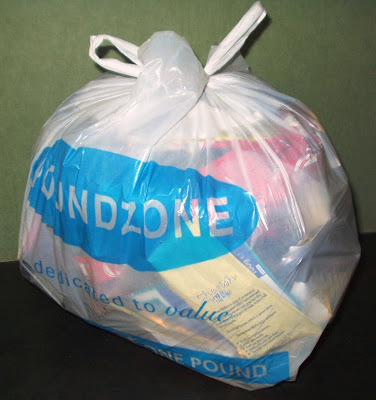litter: (17, 3, 363, 392)
